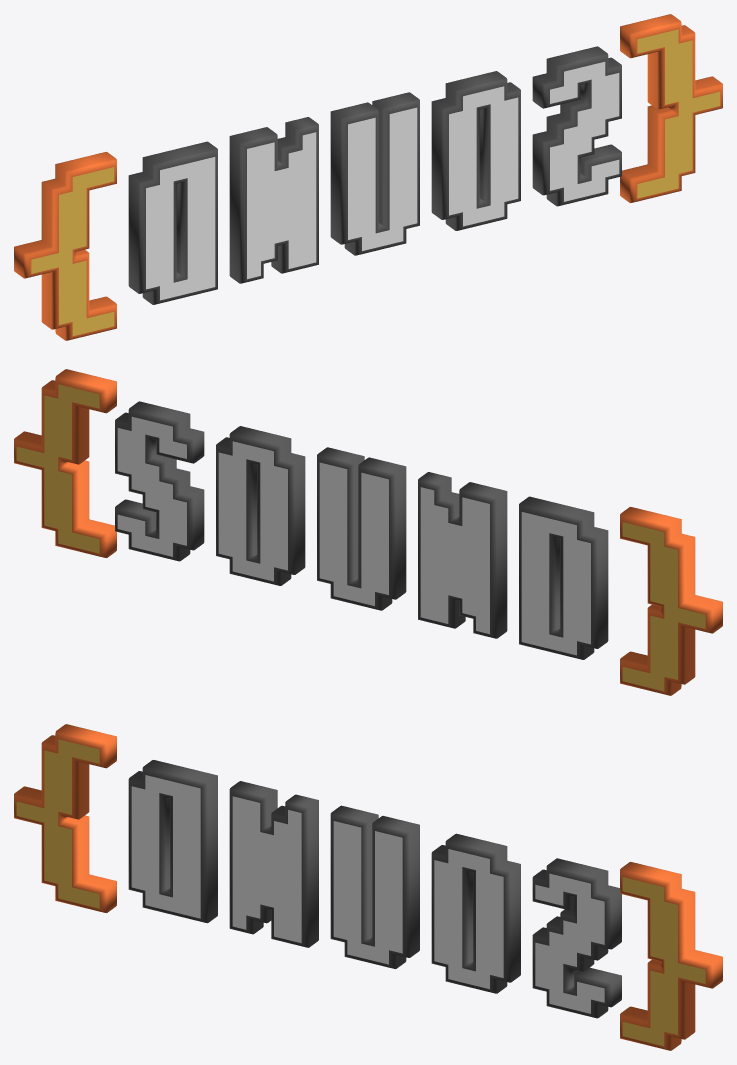
The model's file is SOUND.fbx.
The picture shows the model from 3 angles, top to bottom: view 1: azimuth 30°, elevation 25°; view 2: azimuth 150°, elevation 25°; view 3: azimuth 330°, elevation 25°; orthographic projection.
Visible parts, largest first — view 1: Text, Text.001; view 2: Text, Text.001; view 3: Text, Text.001.
Part boxes in pixels (x1,y1,x2,y2): Text: (31,29,720,336); Text.001: (14,14,722,340); Text: (16,384,705,691); Text.001: (14,369,722,695); Text: (16,739,705,1046); Text.001: (14,724,722,1050).
Size of the model in its own units: 7766 by 1800 by 280.
